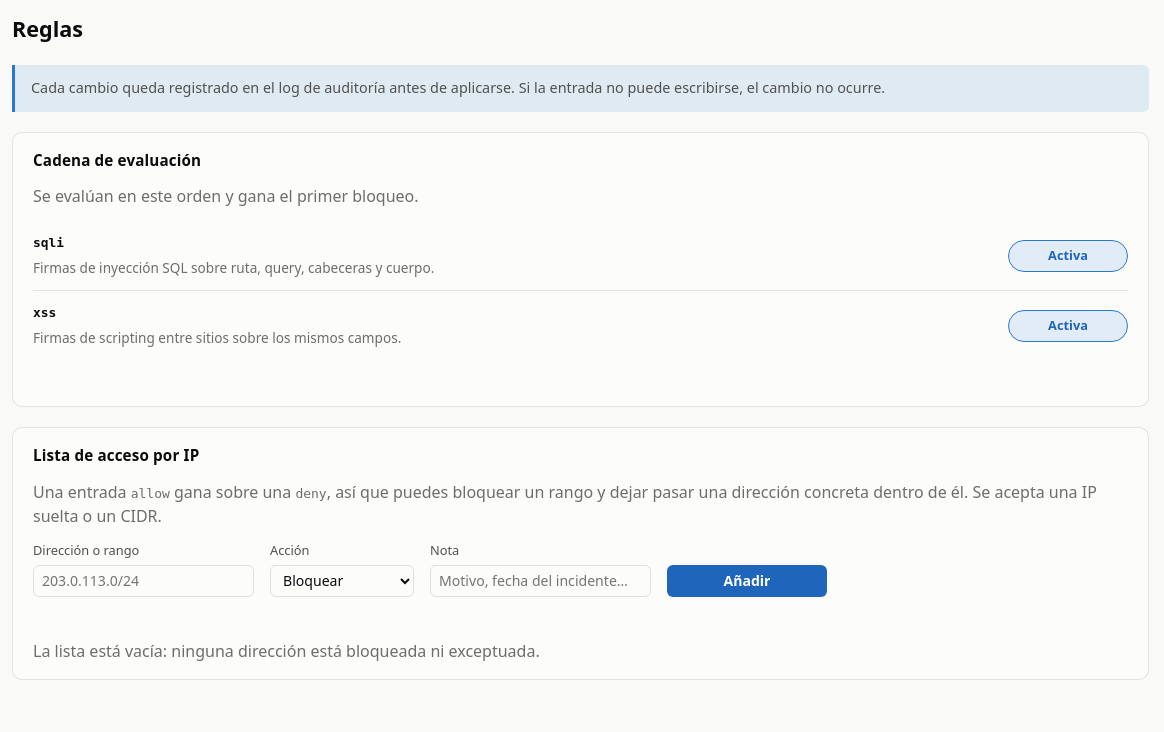
Test case: Rules › shows the state the server confirmed after a toggle
Click the button with aria-label "Regla xss".
click(1068, 326)  # box x1=1008 y1=310 x2=1128 y2=342
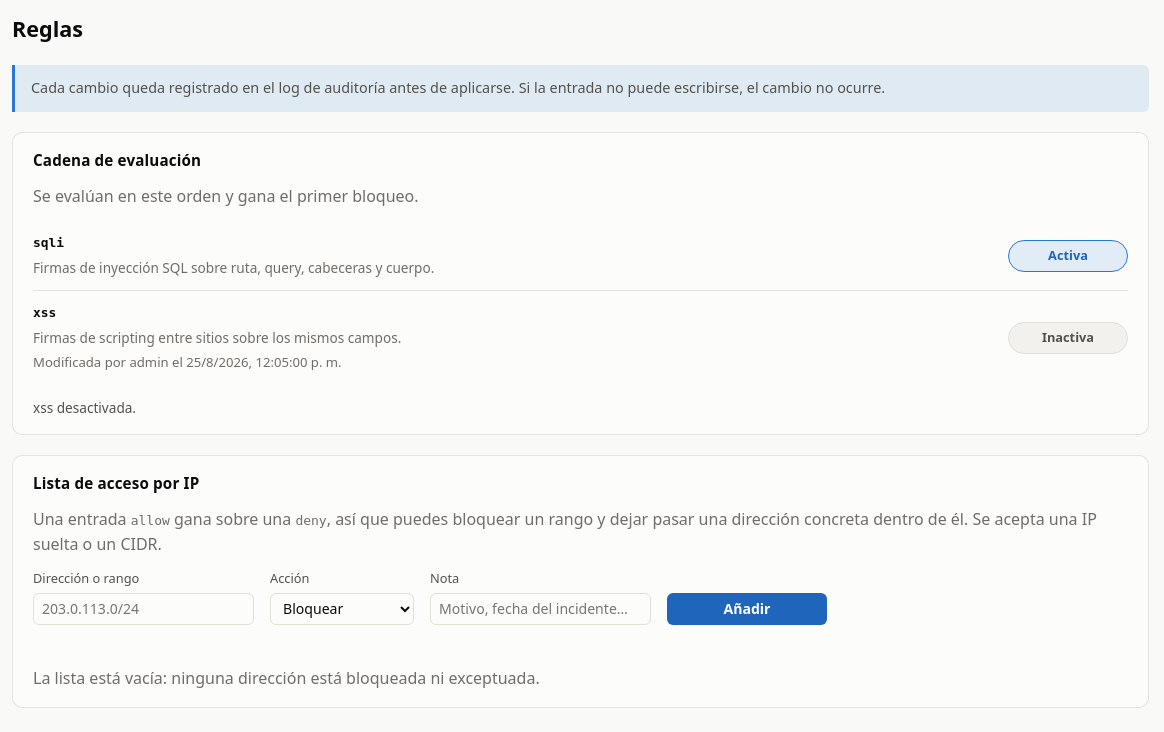
Result: the text "Modificada por admin el 25/8/2026, 12:05:00 p. m." is shown at x1=33 y1=353 x2=342 y2=371
